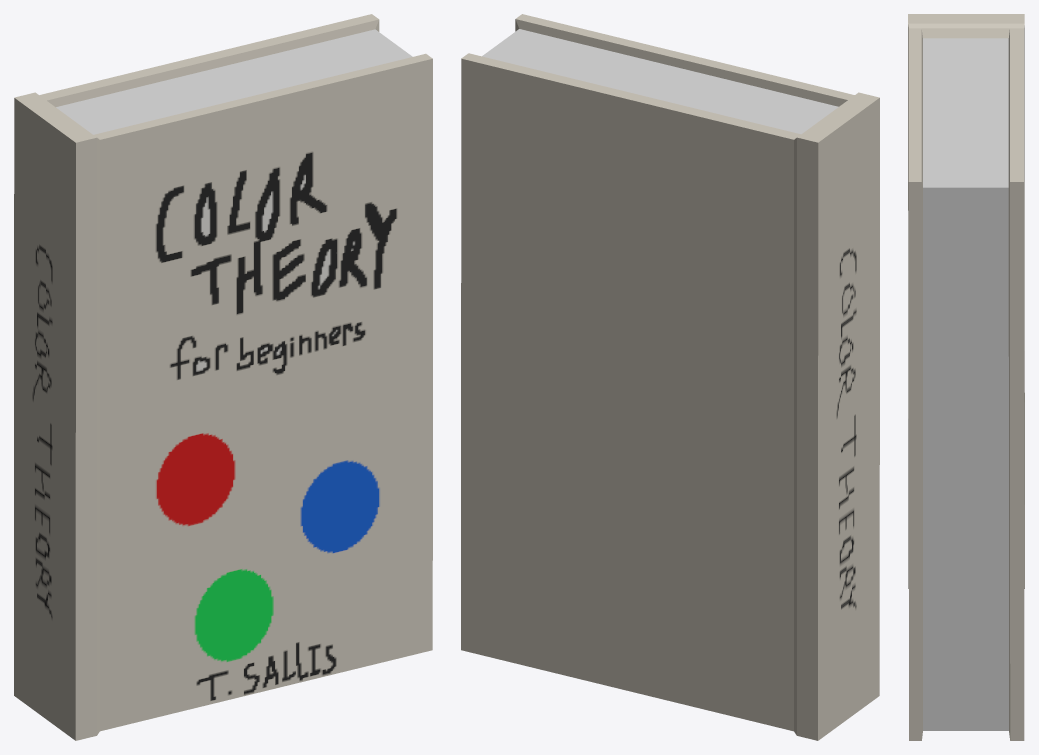
The model's file is colortheory.fbx.
The picture shows the model from 3 angles, left to right: view 1: azimuth 30°, elevation 25°; view 2: azimuth 150°, elevation 25°; view 3: azimuth 270°, elevation 25°; orthographic projection. The views are drawn at different scales.
Parts seen in each view (by area): view 1: Cube.101; view 2: Cube.101; view 3: Cube.101.
Part boxes in pixels (x1=…): Cube.101: x1=14, y1=14, x2=432, y2=740; Cube.101: x1=461, y1=14, x2=879, y2=740; Cube.101: x1=908, y1=14, x2=1024, y2=740.
Size of the model in its own units: 22.87 by 36.59 by 6.85.
